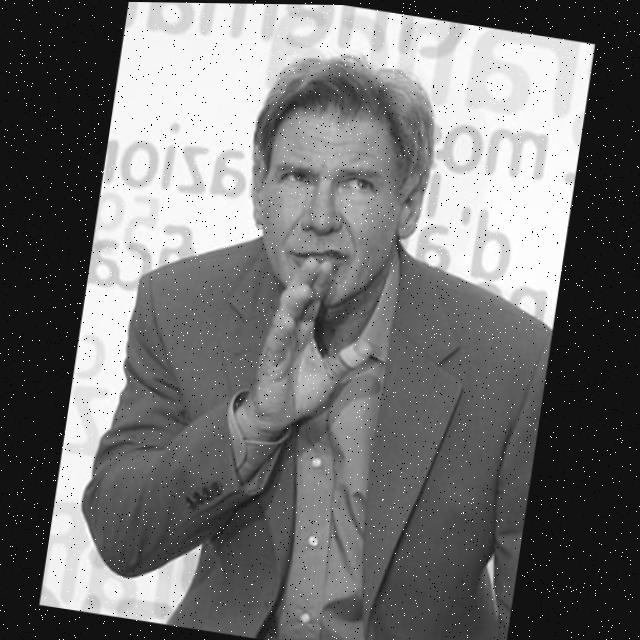face: (225, 47, 448, 333)
